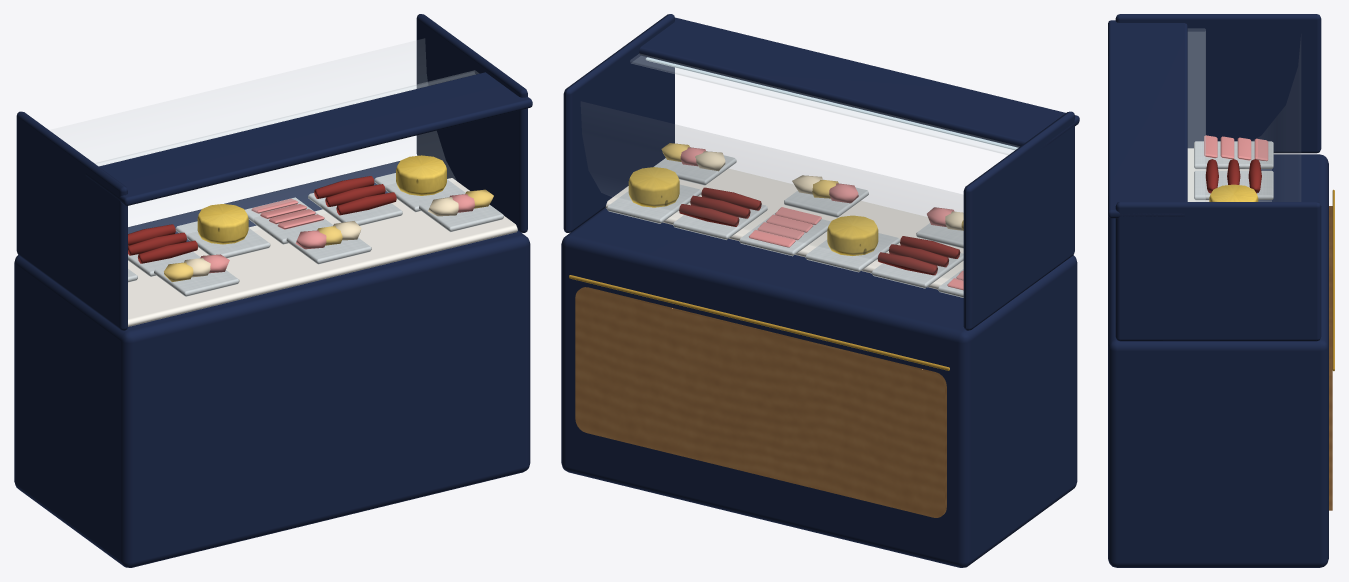
Rendered from dairy_T2.fbx.
3 views of the same model, side by side, from view 1: azimuth 30°, elevation 25°; view 2: azimuth 150°, elevation 25°; view 3: azimuth 270°, elevation 25° (orthographic). The views are drawn at different scales.
Visible parts, largest first — view 1: Body, Anim Fill 2, Anim Fill 0, Anim Fill 1; view 2: Body, Anim Fill 0, Anim Fill 1, Anim Fill 2; view 3: Body, Anim Fill 3, Anim Fill 2.
Part boxes in pixels (x1,y1,x2,y2): Body: (14, 14, 532, 567); Anim Fill 2: (164, 204, 248, 281); Anim Fill 0: (396, 155, 493, 216); Anim Fill 1: (251, 198, 361, 249); Body: (561, 14, 1079, 567); Anim Fill 0: (628, 143, 725, 207); Anim Fill 1: (749, 175, 858, 247); Anim Fill 2: (827, 207, 963, 255); Body: (1108, 14, 1334, 567); Anim Fill 3: (1204, 135, 1268, 161); Anim Fill 2: (1209, 184, 1258, 201).
Bounding box in the file's own units: 1.48 × 1.32 × 0.74.
